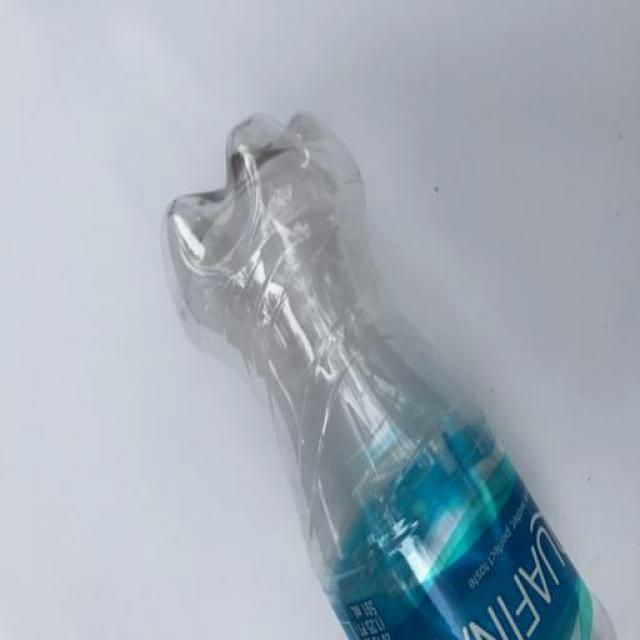bottle: (160, 110, 619, 640)
